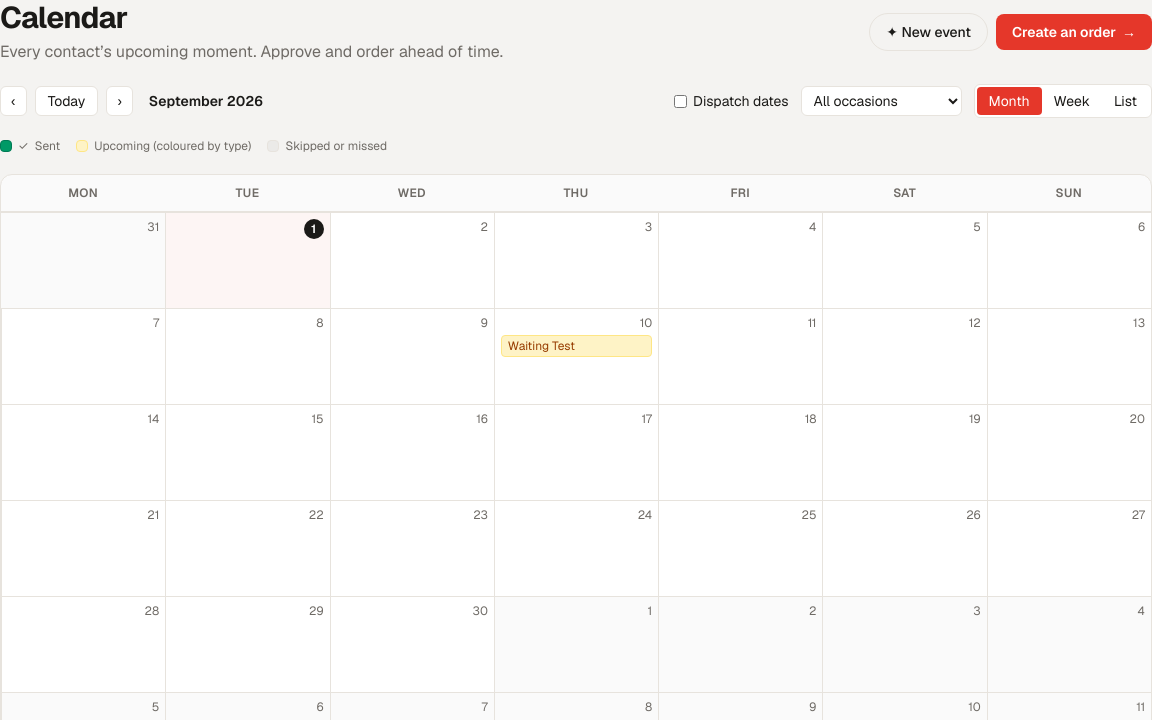
Test case: CalendarClient list view selection › tells a reader with nothing approved why there is nothing to tick
Click the button "list": x=1126, y=101 [1102,87,1149,115]
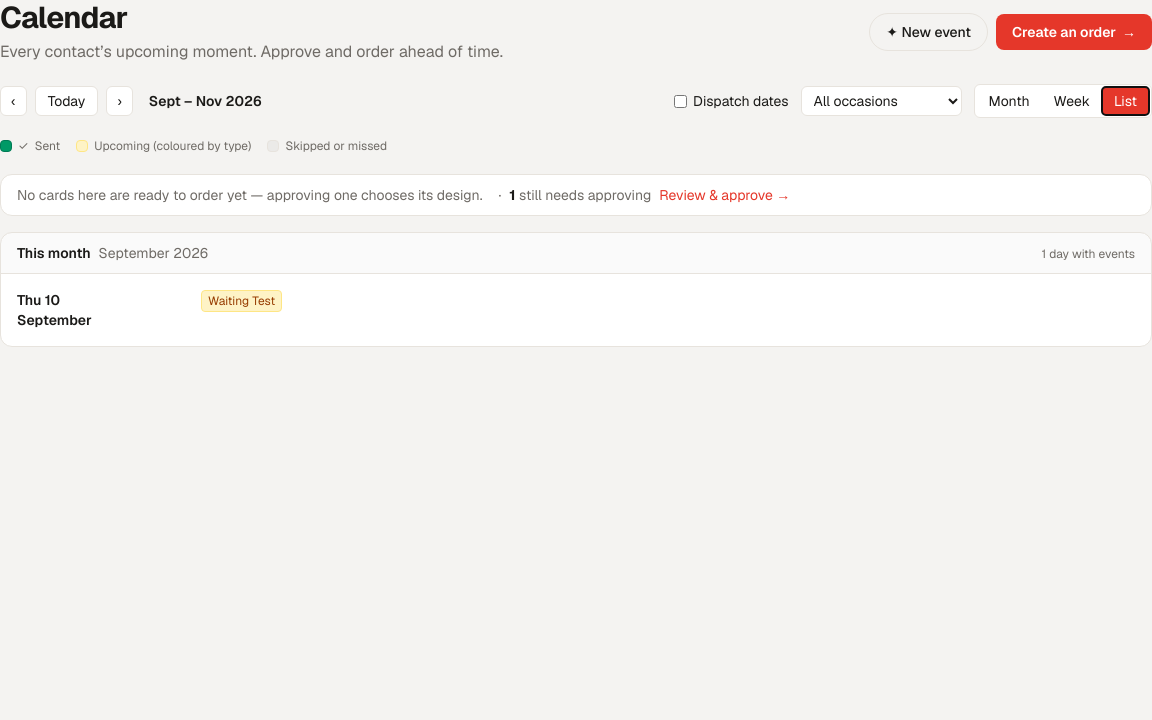
expect the text "No cards here are ready to order yet" is shown: met, box [17,186,482,204]
